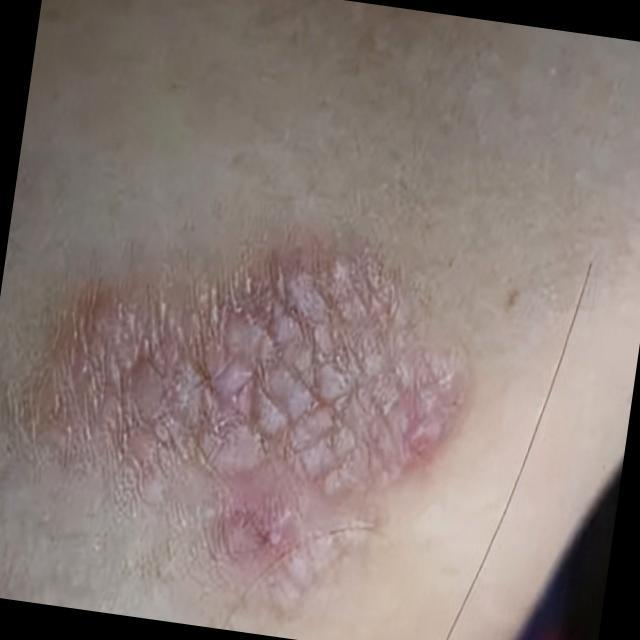Eczema: (14, 251, 456, 581)
